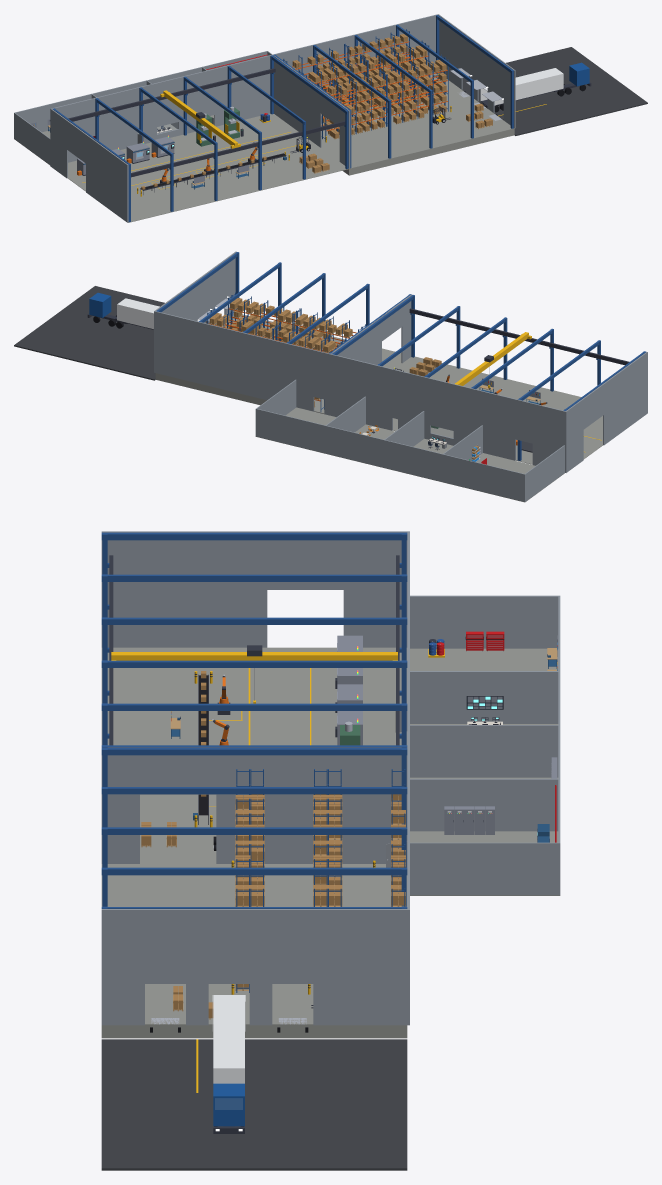
The model's file is ind-001.glb.
3 renders of one model, top to bottom at view 1: azimuth 30°, elevation 25°; view 2: azimuth 150°, elevation 25°; view 3: azimuth 270°, elevation 25°, orthographic. The views are drawn at different scales.
Parts seen in each view (by area): view 1: hangar_cladding, plant_floor, frame_blue, cardboard, apron_asphalt, dark_steel, rim_orange, safety_yellow, white, oak, locker_grey, steel (+2 smaller); view 2: hangar_cladding, frame_blue, apron_asphalt, plant_floor, cardboard, dark_steel, white, safety_yellow, rim_orange, airline_blue, oak; view 3: hangar_cladding, plant_floor, apron_asphalt, frame_blue, cardboard, locker_grey, safety_yellow, white, dark_steel, airline_blue, oak, accent_red.
Part boxes in pixels (bbox=[...]): hangar_cladding: bbox=[14, 14, 515, 222]; plant_floor: bbox=[14, 73, 514, 222]; frame_blue: bbox=[53, 15, 513, 222]; cardboard: bbox=[141, 34, 492, 189]; apron_asphalt: bbox=[462, 47, 647, 135]; dark_steel: bbox=[33, 68, 591, 194]; rim_orange: bbox=[292, 41, 447, 131]; safety_yellow: bbox=[82, 90, 546, 196]; white: bbox=[480, 68, 563, 105]; oak: bbox=[48, 40, 492, 184]; locker_grey: bbox=[30, 119, 249, 183]; steel: bbox=[136, 68, 502, 159]; hangar_cladding: bbox=[154, 251, 647, 501]; frame_blue: bbox=[156, 252, 645, 460]; apron_asphalt: bbox=[14, 286, 216, 380]; plant_floor: bbox=[155, 314, 602, 502]; cardboard: bbox=[209, 298, 479, 459]; dark_steel: bbox=[87, 308, 629, 452]; white: bbox=[117, 298, 205, 329]; safety_yellow: bbox=[455, 332, 601, 452]; rim_orange: bbox=[208, 308, 356, 401]; airline_blue: bbox=[89, 292, 111, 317]; oak: bbox=[209, 307, 540, 407]; hangar_cladding: bbox=[101, 531, 560, 1025]; plant_floor: bbox=[101, 647, 560, 1038]; apron_asphalt: bbox=[101, 1039, 407, 1170]; frame_blue: bbox=[101, 532, 407, 992]; cardboard: bbox=[141, 671, 405, 1017]; locker_grey: bbox=[337, 635, 557, 834]; safety_yellow: bbox=[111, 649, 444, 1092]; white: bbox=[212, 811, 491, 1083]; dark_steel: bbox=[109, 555, 557, 1133]; airline_blue: bbox=[213, 1083, 244, 1126]; oak: bbox=[141, 648, 557, 1019]; accent_red: bbox=[171, 631, 557, 842].
Size of the model in its own units: 94.4 by 11.4 by 36.
